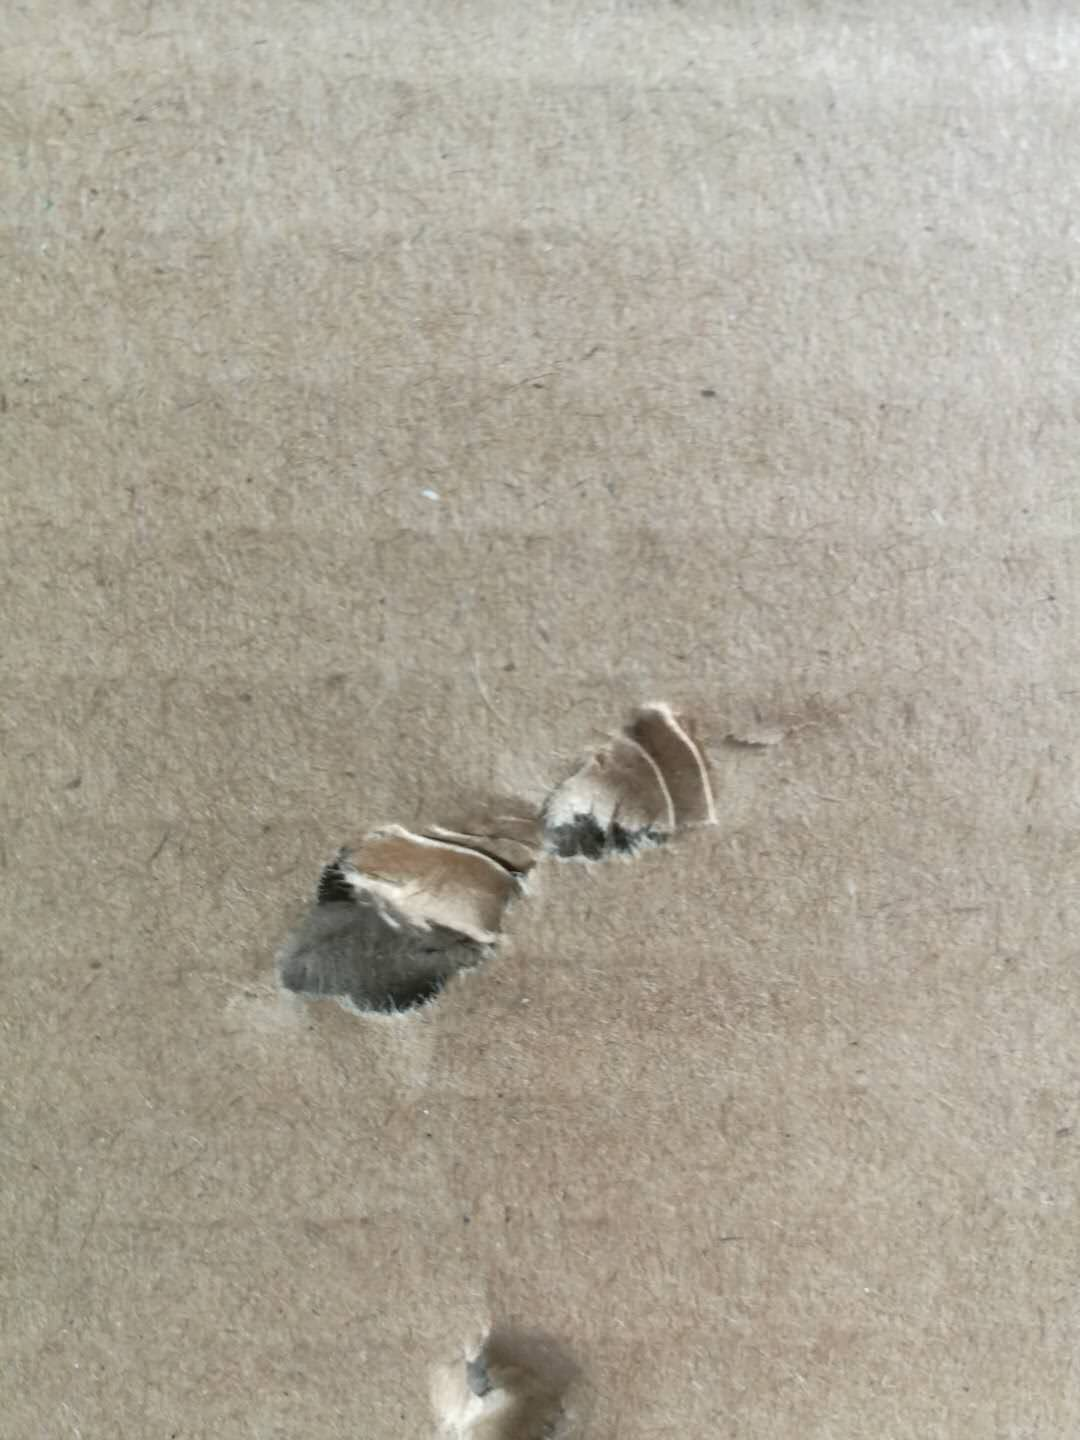defect: (194, 635, 926, 1082), (400, 1282, 624, 1440)
